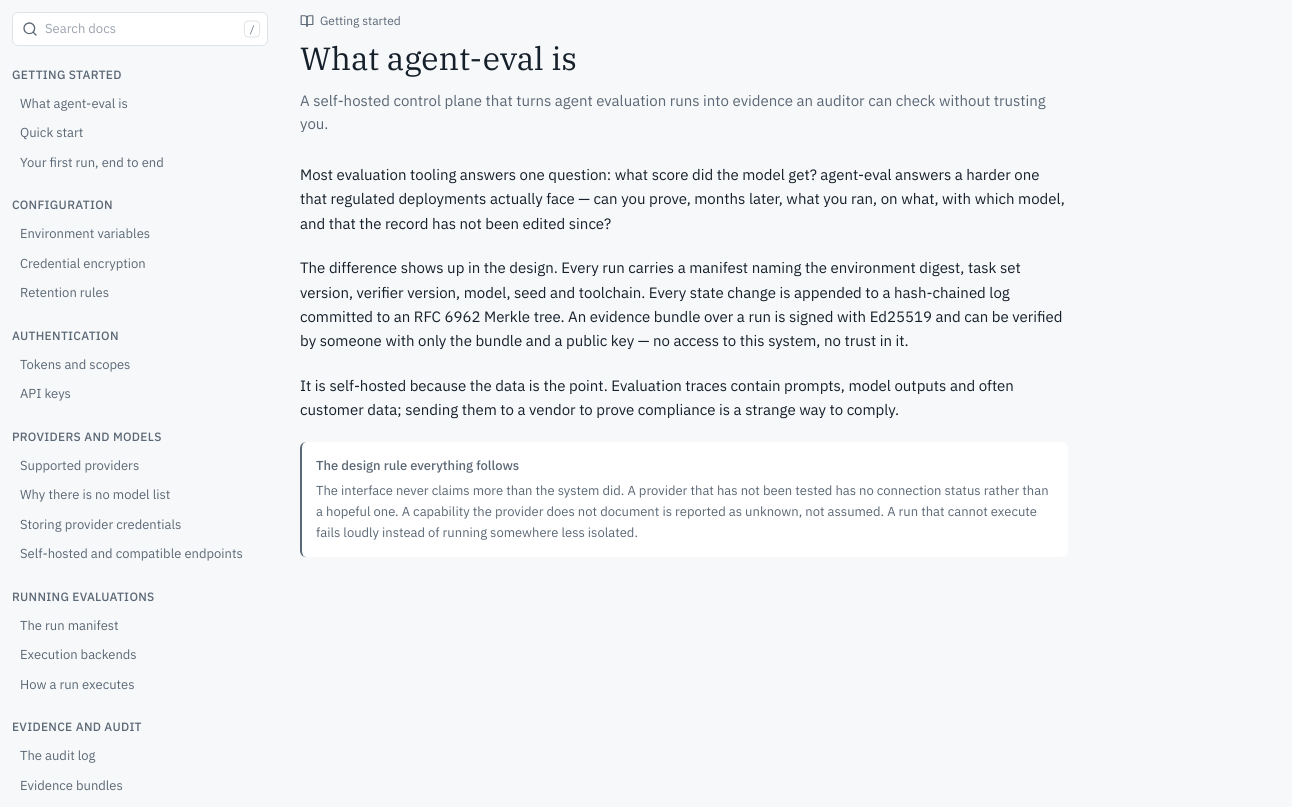
Test: docs page › requires every term to match
In the search field named "Search documentation": (140, 29) [12,12,268,46], type "retention zzzznotaword"
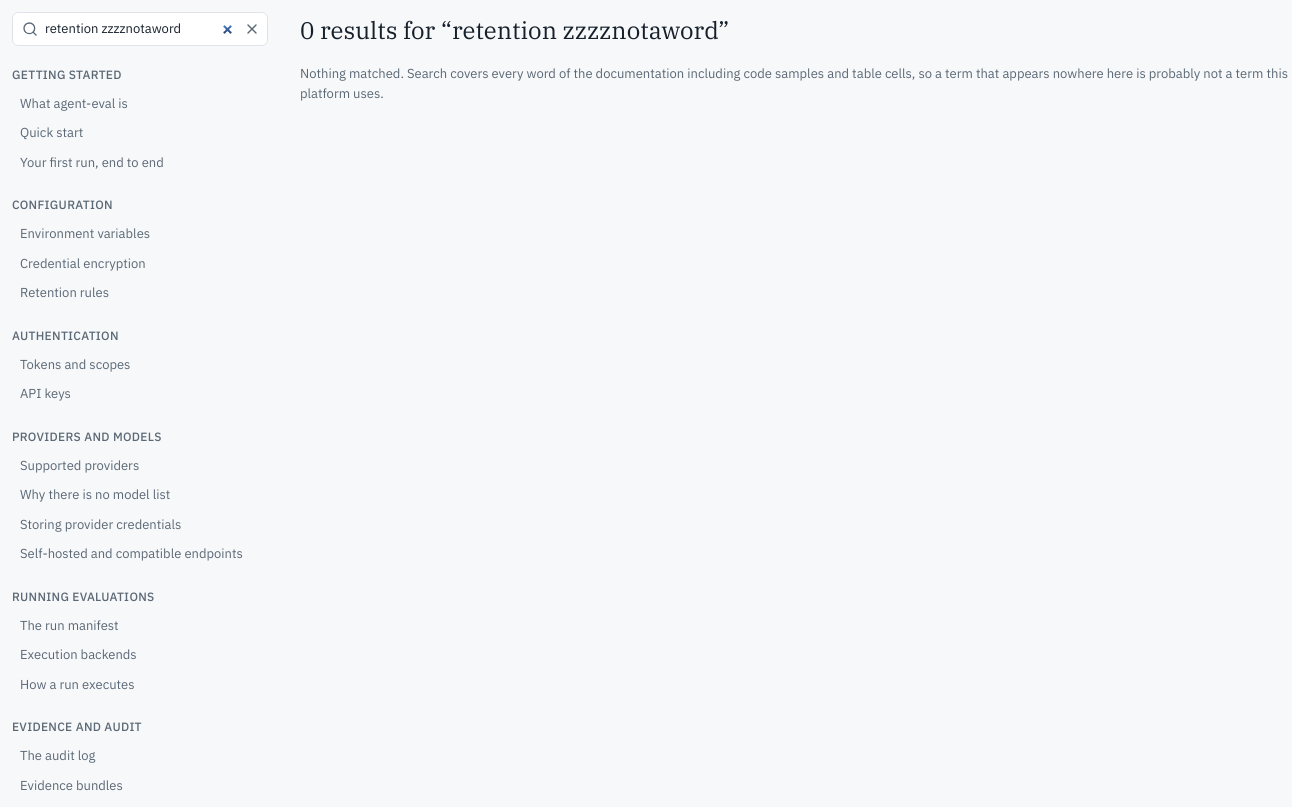
Check: the heading "0 results for “retention zzzznotaword”" is shown, box [300,14,729,46]
